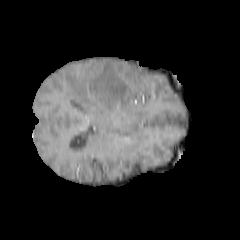glioma: (64, 59, 152, 119)
